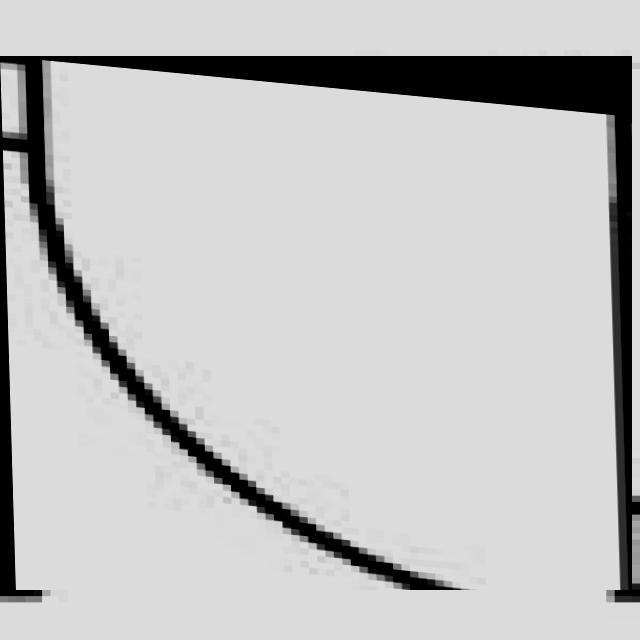door: (0, 56, 632, 590)
